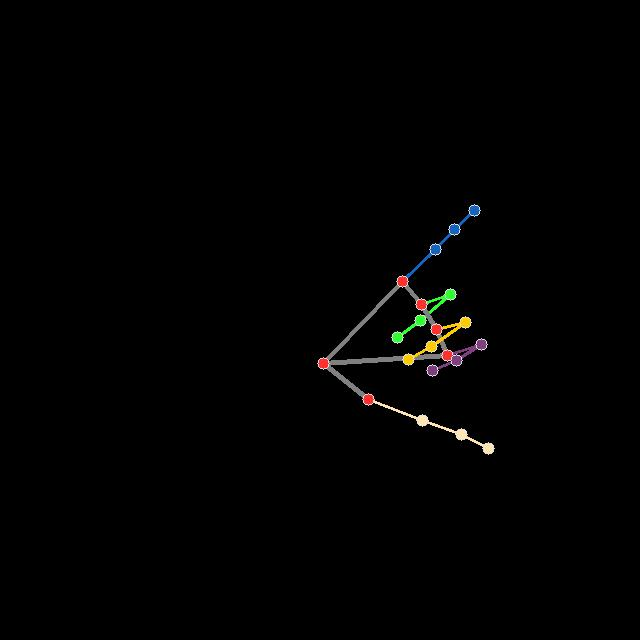skr: (315, 202, 496, 456)
